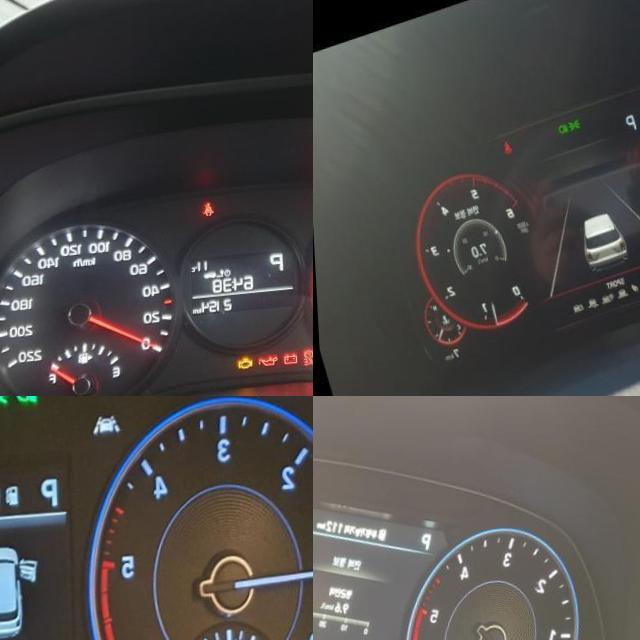LaneCenteringOff: (91, 420, 120, 442)
Low beam: (14, 396, 38, 410), (557, 127, 569, 139)
SideLamp: (566, 122, 581, 137)
